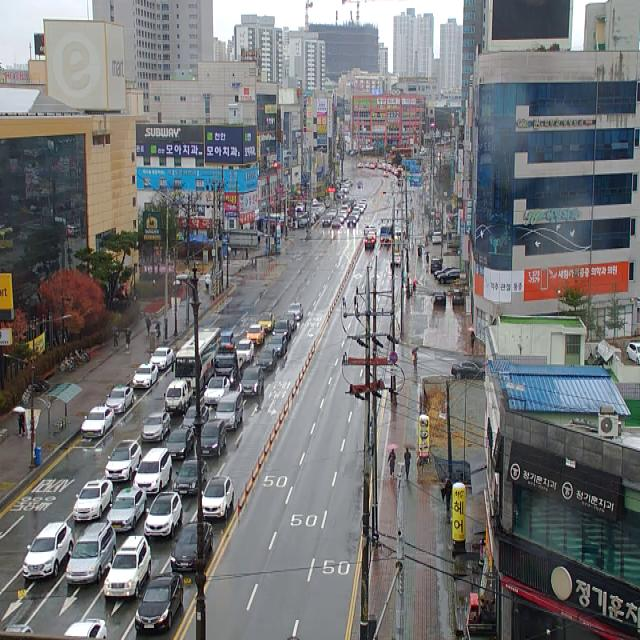Bus: (172, 328, 221, 398), (380, 224, 392, 244)
Car: (66, 523, 116, 585), (104, 536, 151, 597), (24, 523, 74, 579), (135, 576, 183, 633), (172, 522, 214, 572), (107, 487, 147, 532), (133, 448, 172, 494), (144, 492, 182, 539), (73, 481, 113, 520), (105, 440, 142, 481), (202, 476, 234, 518), (172, 458, 206, 496), (196, 419, 227, 458), (215, 391, 243, 431), (81, 407, 114, 438), (141, 412, 171, 442), (166, 428, 195, 459), (64, 618, 107, 638), (180, 406, 209, 434), (105, 385, 134, 413), (240, 365, 264, 396), (204, 376, 230, 404), (133, 364, 158, 389), (451, 362, 485, 379), (149, 347, 173, 369), (256, 348, 277, 371), (266, 336, 287, 356), (236, 339, 254, 362), (272, 320, 291, 340), (437, 269, 460, 284), (247, 326, 264, 345), (288, 301, 303, 321), (258, 313, 274, 331), (627, 343, 640, 364), (434, 267, 456, 279), (4, 626, 36, 634), (283, 312, 297, 330), (433, 289, 446, 306), (221, 331, 235, 346), (453, 290, 464, 306), (390, 253, 401, 268), (431, 259, 442, 273), (365, 236, 375, 250), (432, 232, 442, 245), (364, 225, 377, 235), (347, 215, 356, 228), (322, 215, 331, 227), (295, 202, 304, 212), (367, 232, 376, 242), (332, 219, 341, 228)
Truck: (211, 348, 243, 386), (164, 382, 192, 411)
